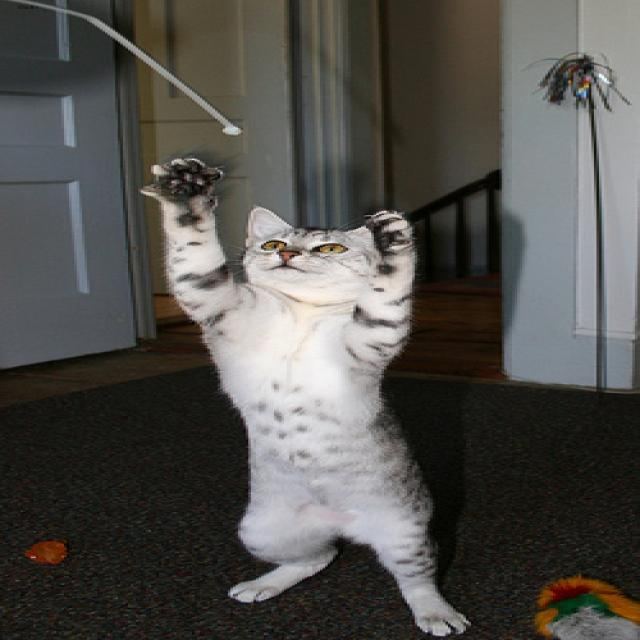Egyptian_Mau: (213, 199, 403, 304)
